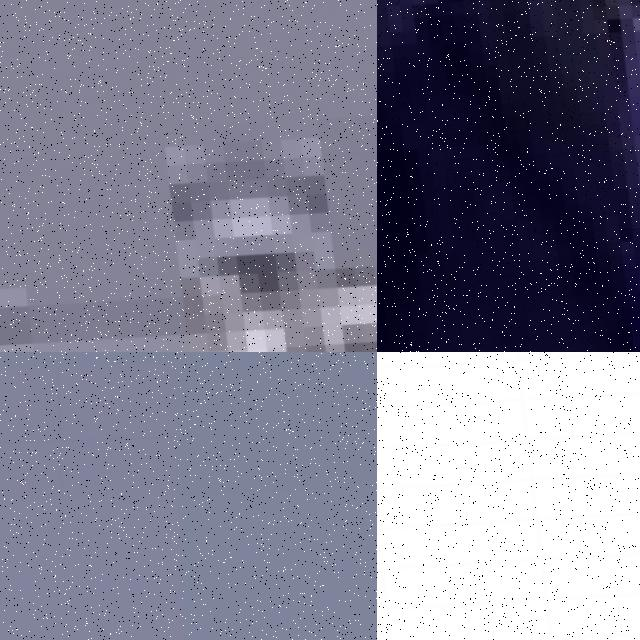drone: (0, 0, 377, 352), (377, 0, 640, 352), (377, 352, 640, 640)
